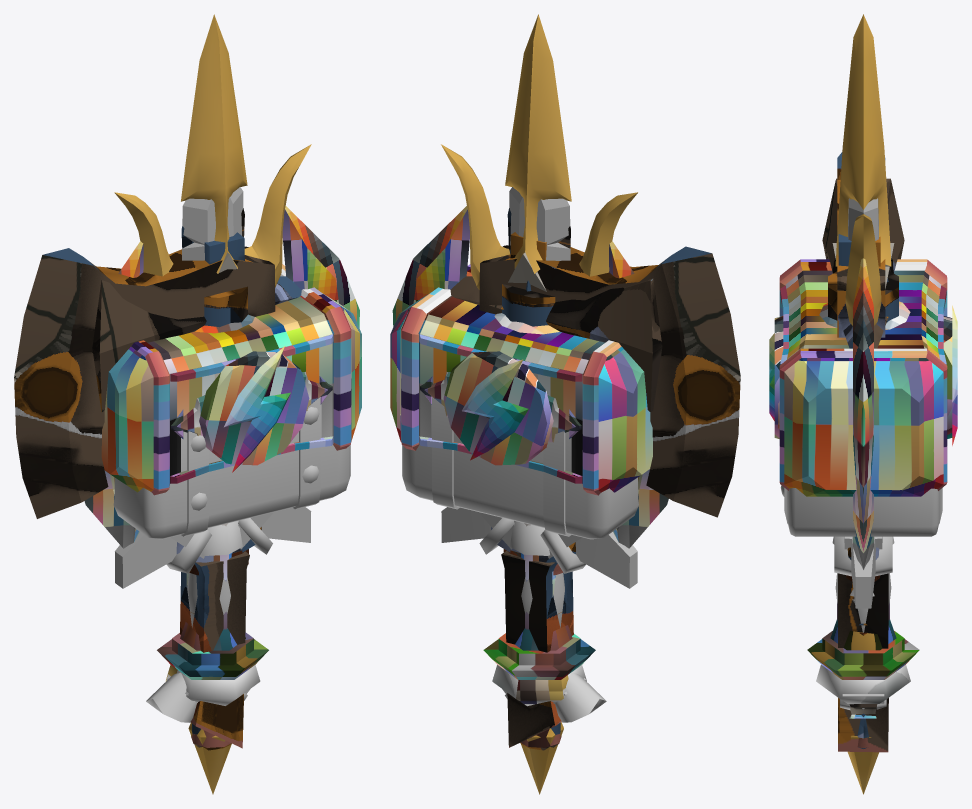
The picture shows the model from 3 angles, left to right: view 1: azimuth 30°, elevation 25°; view 2: azimuth 150°, elevation 25°; view 3: azimuth 270°, elevation 25°; orthographic projection.
Visible parts, largest first — view 1: vk_t3_a1_lv11, vk_t3_a1_lv10, vk_t3_a1_lv12, vk_t3_a1_lv3, vk_t3_a1_lv5, vk_t3_a1_lv6, vk_t3_a1_lv9, vk_t3_a1_lv1, vk_t3_a1_lv7; view 2: vk_t3_a1_lv11, vk_t3_a1_lv10, vk_t3_a1_lv12, vk_t3_a1_lv3, vk_t3_a1_lv6, vk_t3_a1_lv5, vk_t3_a1_lv9, vk_t3_a1_lv1, vk_t3_a1_lv7; view 3: vk_t3_a1_lv11, vk_t3_a1_lv12, vk_t3_a1_lv10, vk_t3_a1_lv9, vk_t3_a1_lv3, vk_t3_a1_lv5, vk_t3_a1_lv6, vk_t3_a1_lv8.
Boxes of the visible parts, x1,y1,x2,y2 form: vk_t3_a1_lv11: (101, 264, 361, 705); vk_t3_a1_lv10: (14, 232, 275, 748); vk_t3_a1_lv12: (114, 14, 311, 794); vk_t3_a1_lv3: (113, 397, 350, 539); vk_t3_a1_lv5: (115, 187, 311, 702); vk_t3_a1_lv6: (92, 276, 301, 734); vk_t3_a1_lv9: (84, 206, 359, 548); vk_t3_a1_lv1: (187, 520, 242, 627); vk_t3_a1_lv7: (146, 672, 196, 722); vk_t3_a1_lv11: (390, 264, 652, 706); vk_t3_a1_lv10: (479, 232, 740, 747); vk_t3_a1_lv12: (441, 14, 637, 794); vk_t3_a1_lv3: (402, 397, 638, 539); vk_t3_a1_lv6: (450, 276, 662, 734); vk_t3_a1_lv5: (441, 187, 637, 703); vk_t3_a1_lv9: (392, 206, 668, 548); vk_t3_a1_lv1: (509, 520, 564, 627); vk_t3_a1_lv7: (555, 673, 606, 722); vk_t3_a1_lv11: (769, 259, 957, 703); vk_t3_a1_lv12: (832, 14, 894, 794); vk_t3_a1_lv10: (837, 152, 888, 752); vk_t3_a1_lv9: (849, 258, 876, 718); vk_t3_a1_lv3: (780, 485, 942, 536); vk_t3_a1_lv5: (834, 198, 892, 710); vk_t3_a1_lv6: (822, 178, 904, 738); vk_t3_a1_lv8: (847, 547, 879, 714).
Bounding box in the file's own units: 1.32 × 2.83 × 0.6175.
